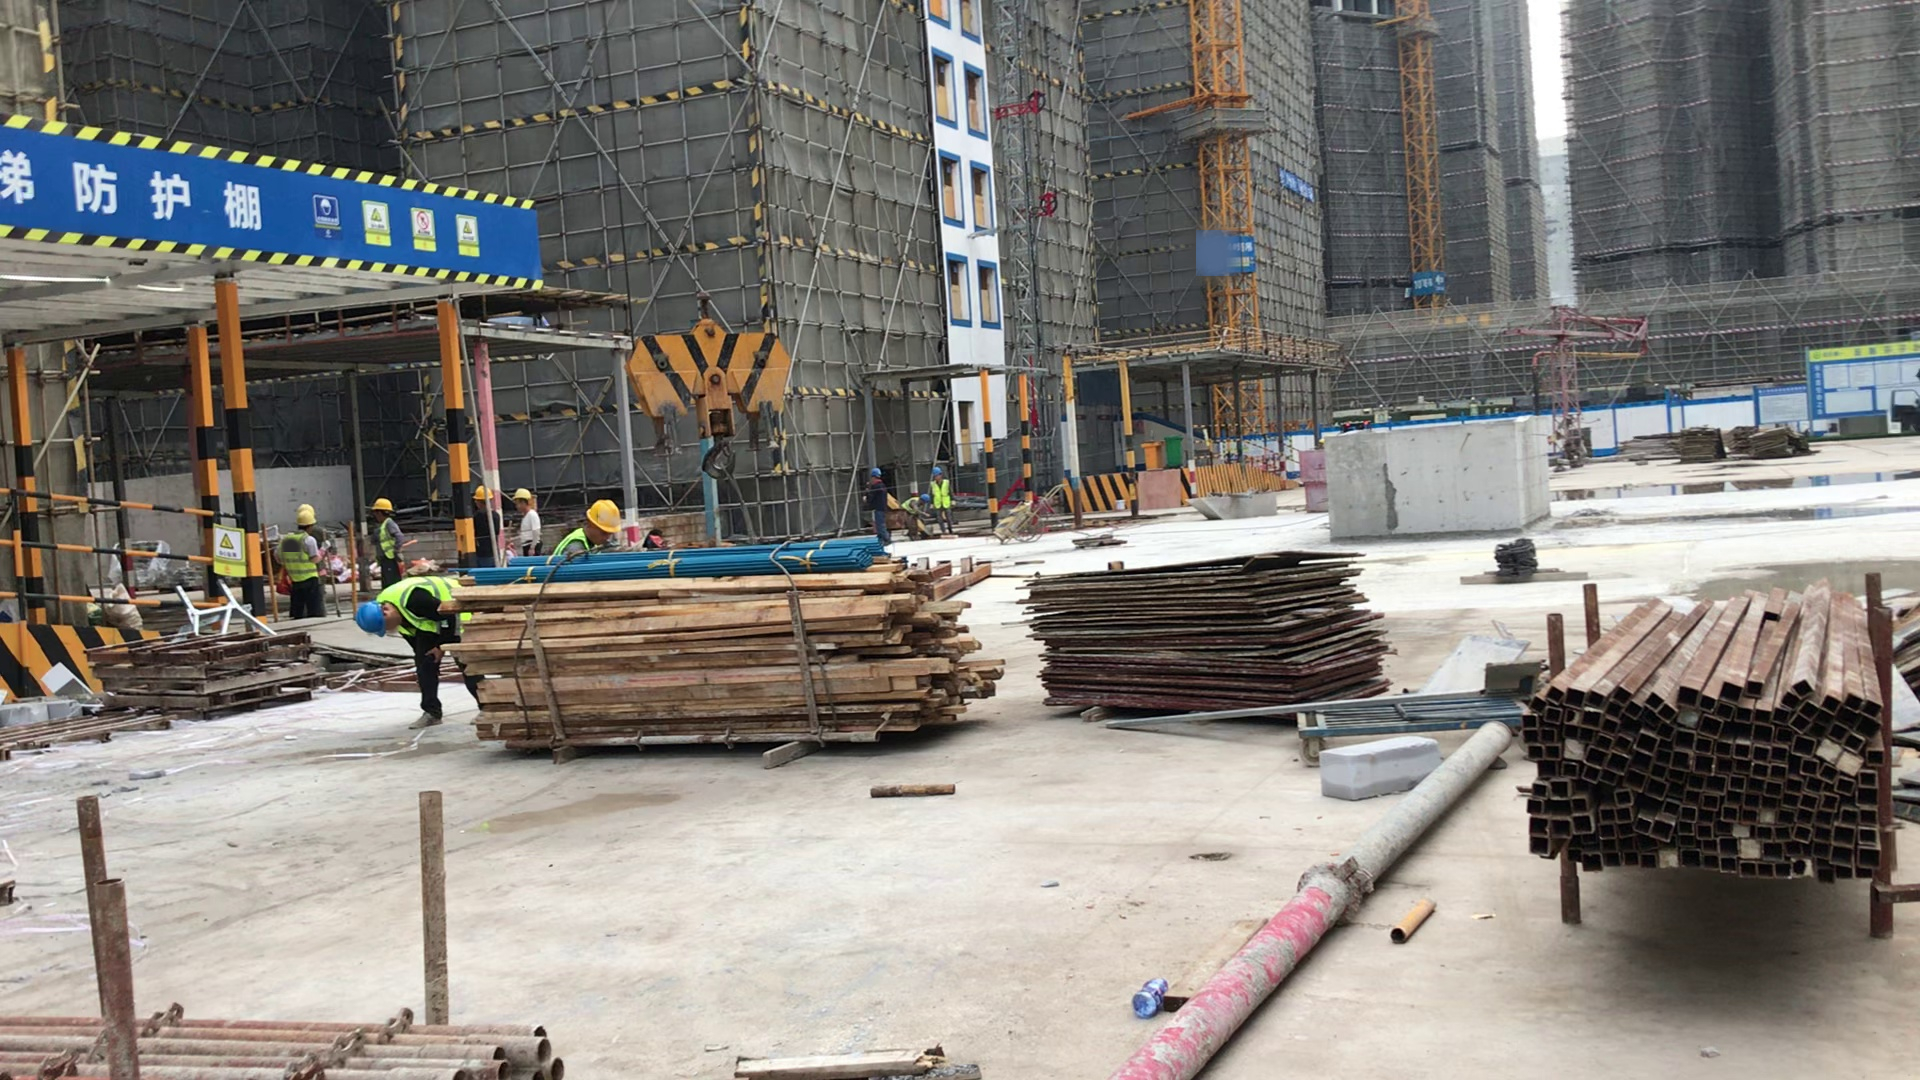helmet: (355, 601, 386, 639), (585, 501, 622, 533), (295, 512, 316, 527), (374, 497, 393, 514), (474, 484, 492, 501), (511, 489, 532, 500), (870, 469, 882, 480), (932, 466, 943, 476), (921, 494, 929, 503)
person: (354, 581, 489, 727), (278, 511, 331, 627), (556, 501, 623, 558), (373, 497, 405, 588), (473, 485, 500, 579), (511, 489, 542, 554), (867, 469, 892, 545), (928, 466, 954, 533), (901, 495, 928, 541)
vest: (382, 576, 465, 639), (281, 533, 320, 583), (551, 533, 599, 562), (375, 521, 399, 561), (932, 477, 951, 510)
